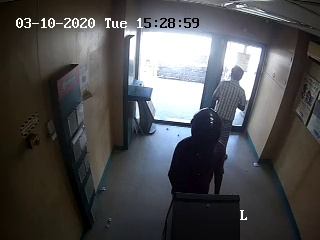helmet: (188, 108, 226, 158)
